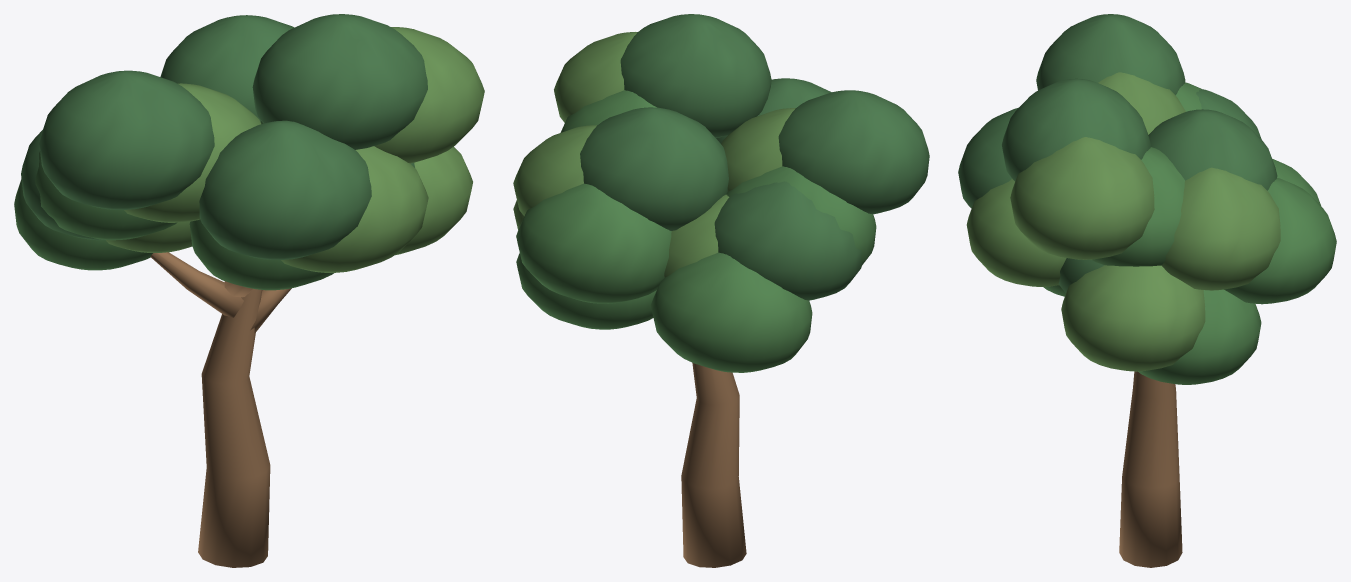
The model's file is tree.glb.
3 renders of one model, left to right at view 1: azimuth 30°, elevation 25°; view 2: azimuth 150°, elevation 25°; view 3: azimuth 270°, elevation 25°, orthographic. The views are drawn at different scales.
Parts seen in each view (by area): view 1: tree_crafted_mesh; view 2: tree_crafted_mesh; view 3: tree_crafted_mesh.
Part boxes in pixels (<box>): tree_crafted_mesh: <box>14,14,484,567</box>; tree_crafted_mesh: <box>513,14,929,567</box>; tree_crafted_mesh: <box>958,14,1336,567</box>.
Bounding box in the file's own units: 3.1 × 3.84 × 2.63.
